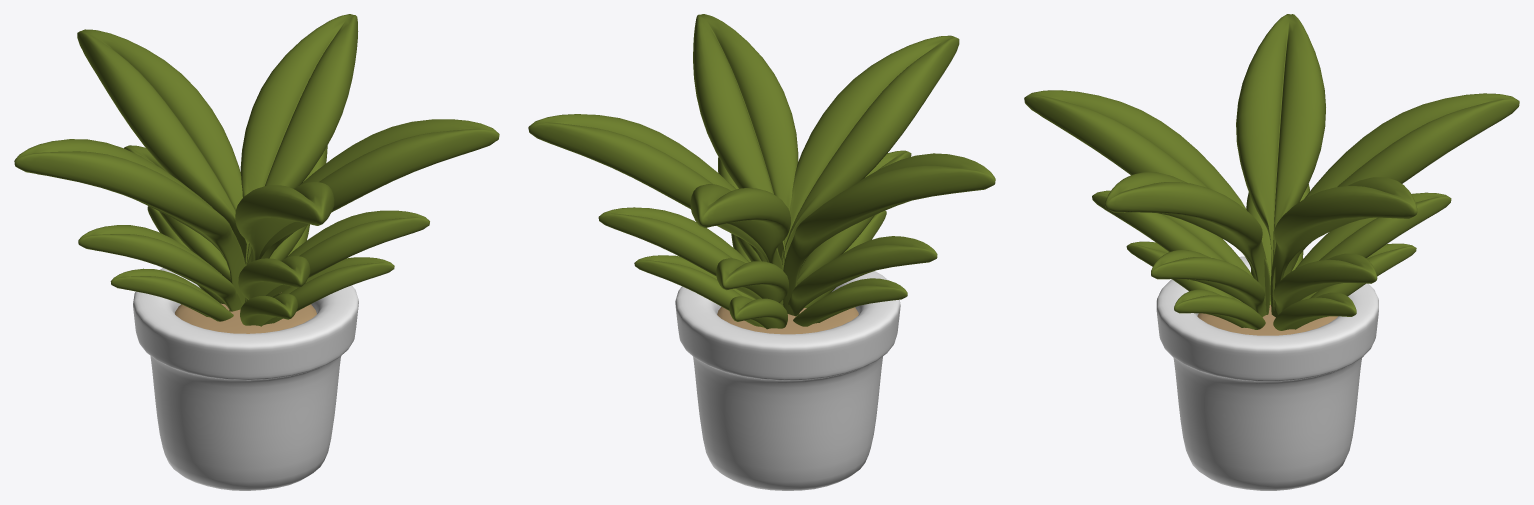
File: plant3.glb
The picture shows the model from 3 angles, left to right: view 1: azimuth 30°, elevation 25°; view 2: azimuth 150°, elevation 25°; view 3: azimuth 270°, elevation 25°; orthographic projection.
Parts seen in each view (by area): view 1: long plant.008, Plane.116, Plane.120, Plane.115, Plane.119, Plane.117, Plane.118, Plane.113, Plane.121, Plane.124, Plane.112, long plant.009 (+4 smaller); view 2: long plant.008, Plane.117, Plane.119, Plane.120, Plane.115, Plane.116, Plane.114, Plane.118, Plane.121, Plane.125, Plane.111, Plane.112 (+3 smaller); view 3: long plant.008, Plane.115, Plane.117, Plane.116, Plane.119, Plane.120, Plane.111, Plane.113, Plane.112, Plane.114, Plane.124, Plane.125 (+4 smaller).
Boxes of the visible parts, x1,y1,x2,y2 form: long plant.008: (133,268,358,490); Plane.116: (77,29,246,263); Plane.120: (240,14,358,301); Plane.115: (14,139,245,311); Plane.119: (247,119,499,300); Plane.117: (235,182,334,261); Plane.118: (78,225,242,311); Plane.113: (272,210,429,297); Plane.121: (110,268,233,321); Plane.124: (278,257,394,311); Plane.112: (238,256,310,299); long plant.009: (175,292,316,333); long plant.008: (675,271,900,490); Plane.117: (781,35,959,306); Plane.119: (693,14,798,261); Plane.120: (528,114,783,304); Plane.115: (783,153,995,316); Plane.116: (690,184,790,265); Plane.114: (598,207,749,275); Plane.118: (788,236,937,316); Plane.121: (793,278,907,326); Plane.125: (634,255,755,310); Plane.111: (716,258,788,302); Plane.112: (797,150,911,285); long plant.008: (1156,256,1378,490); Plane.115: (1236,14,1325,311); Plane.117: (1024,90,1270,314); Plane.116: (1272,93,1519,310); Plane.119: (1105,172,1266,303); Plane.120: (1270,177,1417,317); Plane.111: (1295,192,1451,268); Plane.113: (1151,250,1266,316); Plane.112: (1092,190,1267,314); Plane.114: (1273,253,1377,314); Plane.124: (1174,289,1265,329); Plane.125: (1273,292,1356,330).
Size of the model in its own units: 0.567 by 0.471 by 0.6086.
